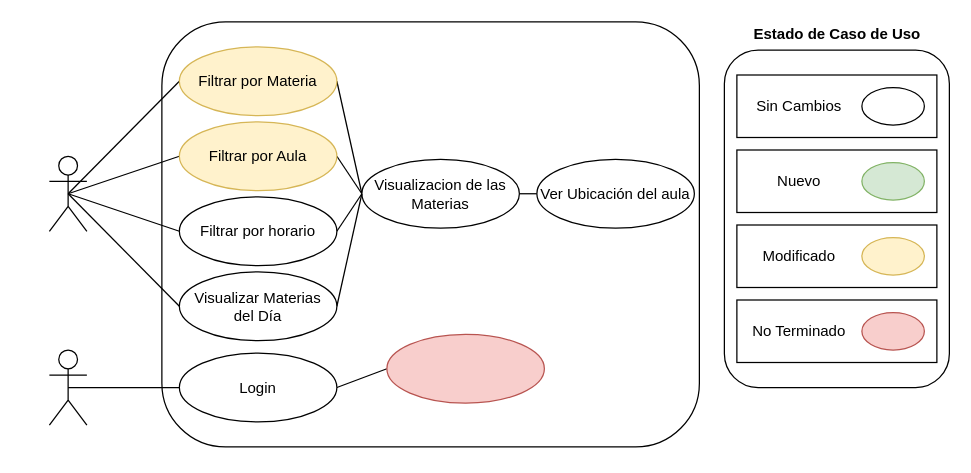
Image size: 971x473. Some labels were removed from this diagram. The centre of each missing label's shape, as x and y in pixels:
"Administrador" belongs at (67,387).
"Carga por CSV" belongs at (465,368).
"Estudiante" belongs at (67,193).
